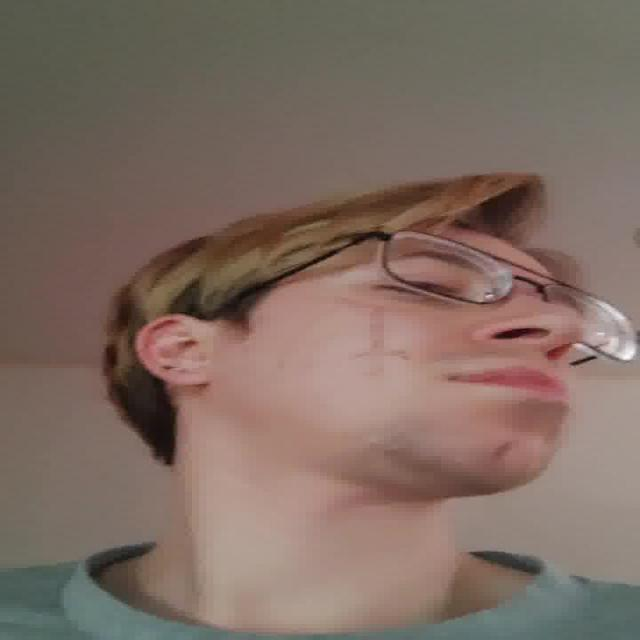earlobe: (152, 369, 212, 388)
eye: (375, 273, 463, 300)
nose: (490, 329, 572, 373)
wholeear: (130, 311, 215, 387)
